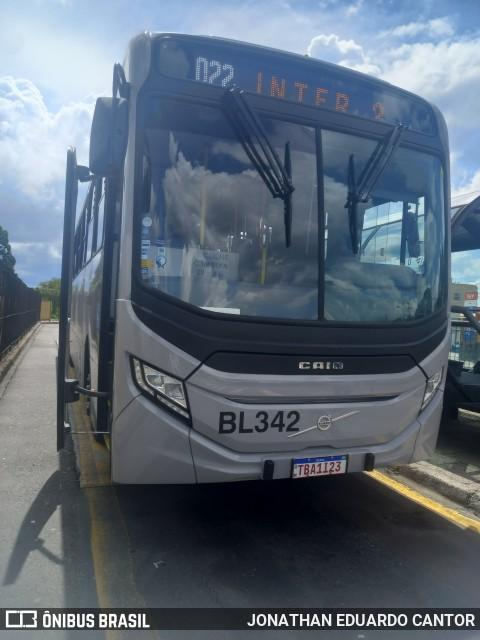INTER 2: (249, 63, 393, 129)
